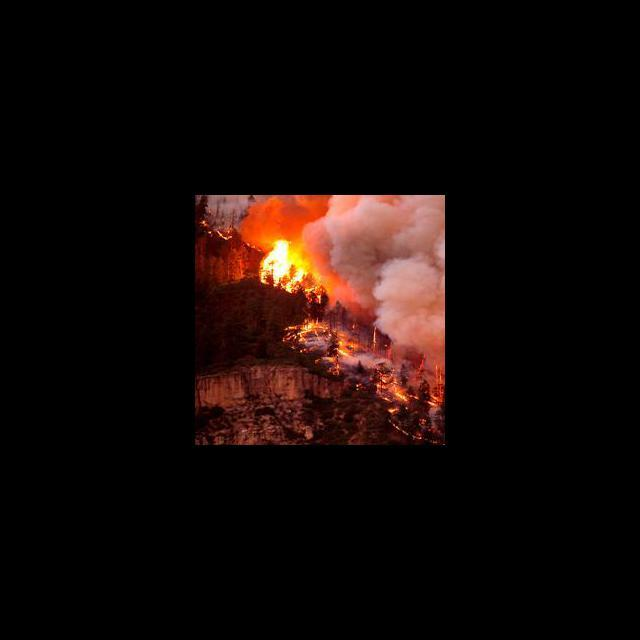Fire: (256, 234, 324, 304)
Smoke: (334, 196, 444, 350)
